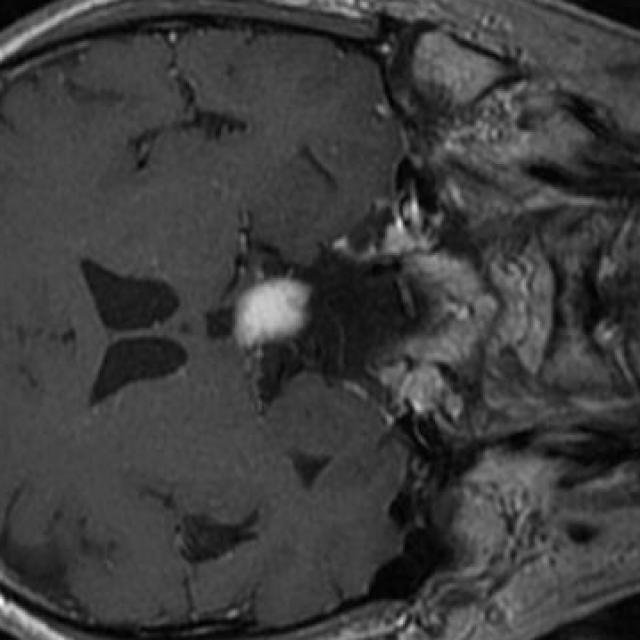meningioma: (234, 278, 307, 344)
